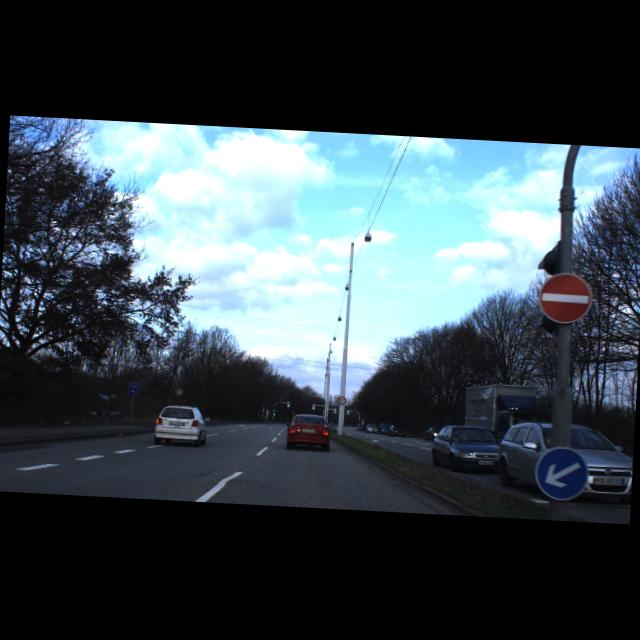mandatory: (534, 446, 590, 502)
other: (538, 272, 593, 324)
prohibitory: (174, 387, 183, 396), (338, 396, 346, 405)
